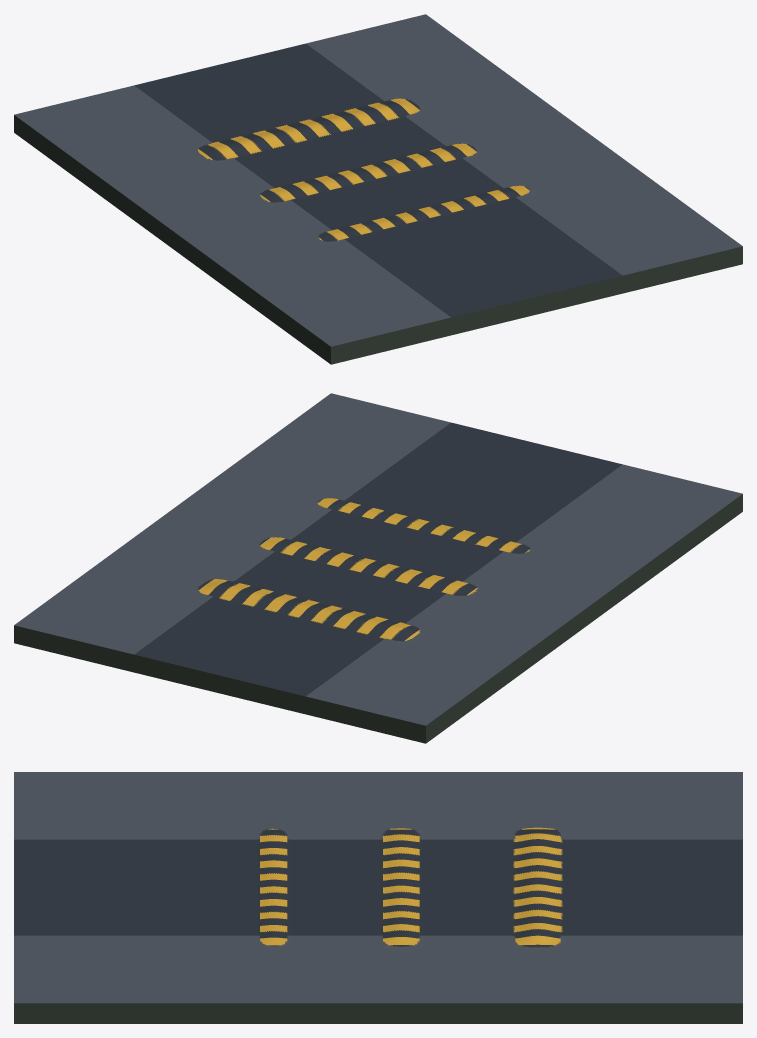
File: road_bumps.dae
The picture shows the model from 3 angles, top to bottom: view 1: azimuth 30°, elevation 25°; view 2: azimuth 150°, elevation 25°; view 3: azimuth 270°, elevation 25°; orthographic projection. The views are drawn at different scales.
Visible parts, largest first — view 1: terrain_node; view 2: terrain_node; view 3: terrain_node.
Part boxes in pixels (x1,y1,x2,y2): terrain_node: (14,14,742,364); terrain_node: (14,393,742,743); terrain_node: (14,772,742,1023).
Size of the model in its own units: 6 by 8 by 0.29.
